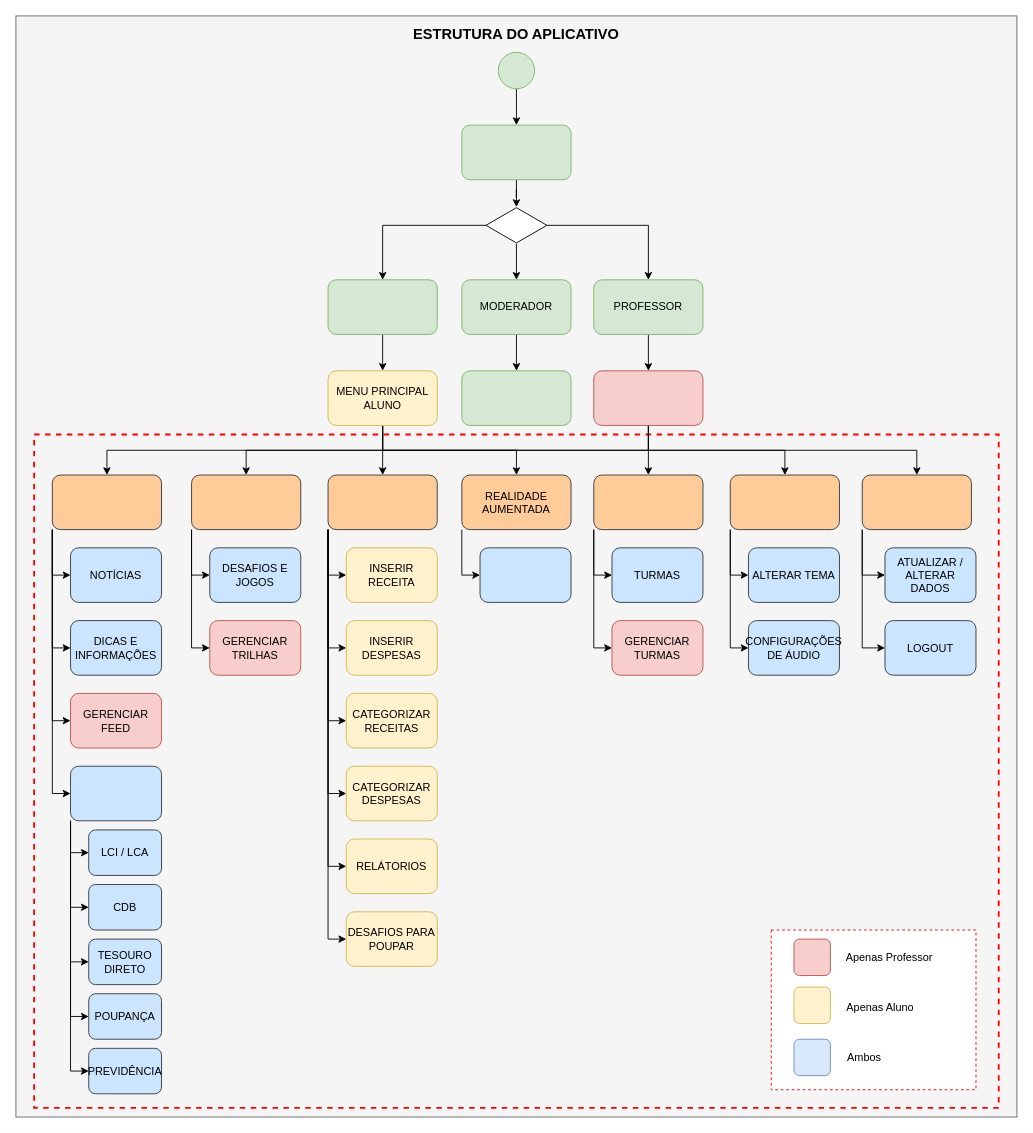
This 1033x1133 diagram has some shape labels left out. Here are the shapes that lost their labels. From the top down, the centre of each, then its label:
At (x=516, y=152): "LOGIN".
At (x=382, y=306): "ALUNO".
At (x=516, y=397): "CADASTRO".
At (x=648, y=397): "MENU PRINCIPAL PROFESSORES".
At (x=106, y=502): "FEED DE NOTÍCIAS".
At (x=246, y=502): "TRILHAS".
At (x=382, y=502): "ORGANIZADOR DE GASTOS".
At (x=648, y=502): "COMUNIDADE".
At (x=784, y=502): "CONFIGURAÇÕES DO APP".
At (x=916, y=502): "CONFIGURAÇÕES DO USUARIO".
At (x=525, y=574): "ACESSO PELA CÂMERA".
At (x=116, y=793): "INVESTIMENTOS".
